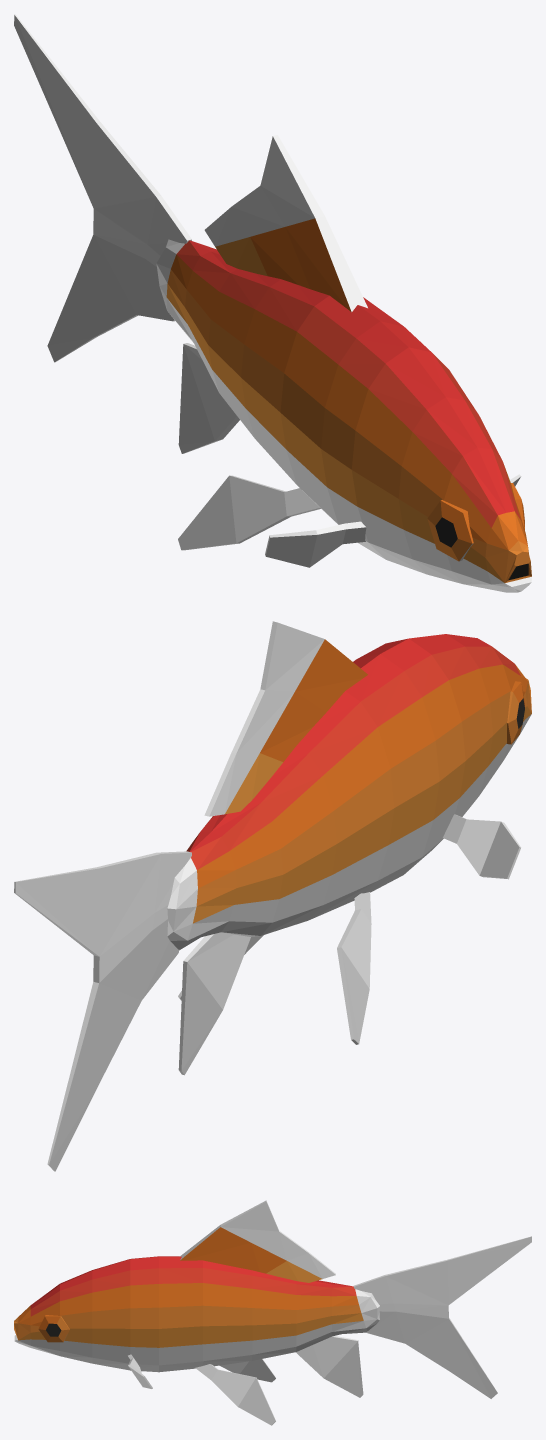
File: fishB.gltf
The picture shows the model from 3 angles, top to bottom: view 1: azimuth 30°, elevation 25°; view 2: azimuth 150°, elevation 25°; view 3: azimuth 270°, elevation 25°; orthographic projection. The views are drawn at different scales.
Parts seen in each view (by area): view 1: fishB; view 2: fishB; view 3: fishB.
Boxes of the visible parts, left/top/right/bottom form: fishB: left=14, top=14, right=531, bottom=592; fishB: left=14, top=621, right=531, bottom=1171; fishB: left=14, top=1200, right=531, bottom=1425.
Size of the model in its own units: 0.731 by 1.11 by 2.56.
Materials: 1 (1 with a texture image).
